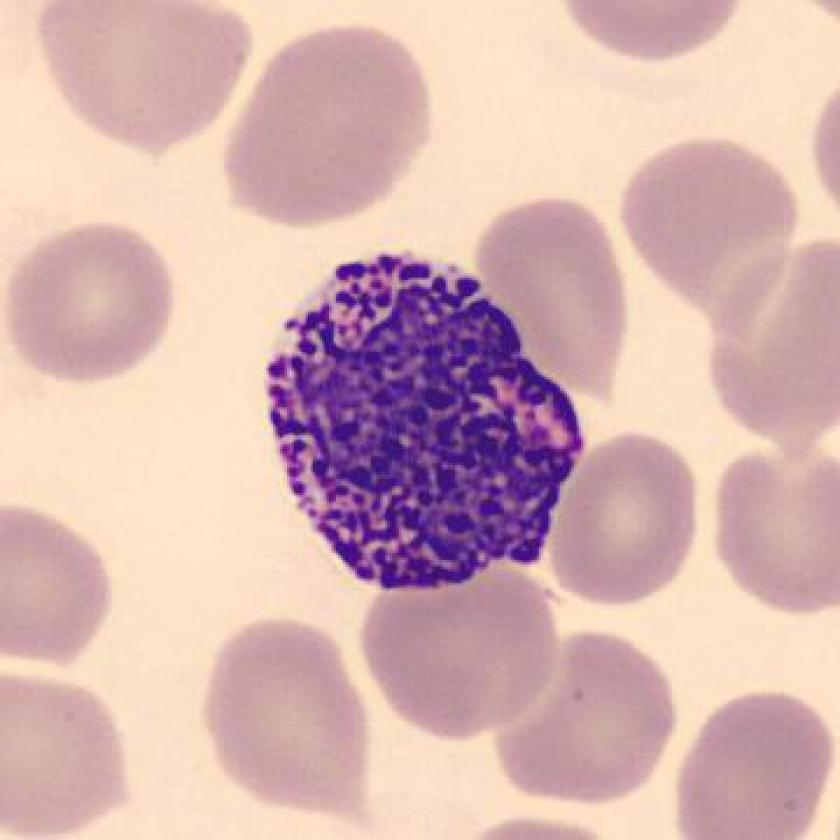basophil: (267, 249, 591, 596)
